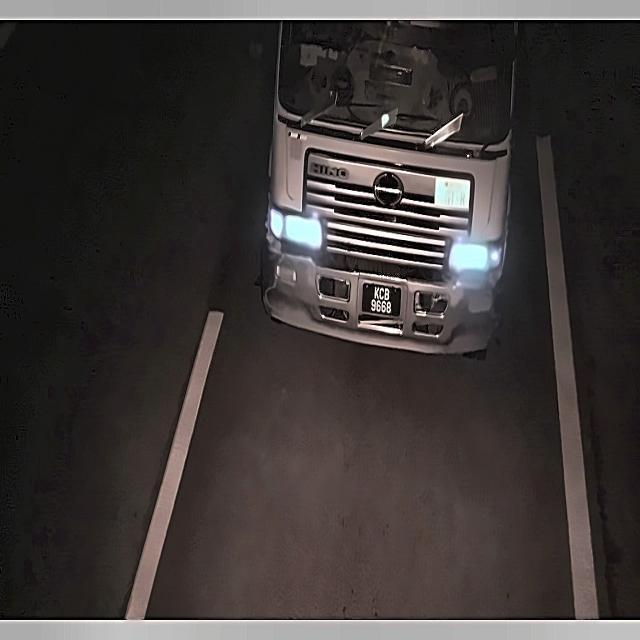car: (363, 282, 401, 326)
